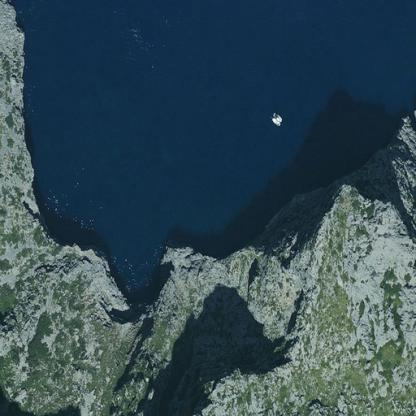ship: (270, 117, 281, 125), (274, 114, 282, 122)
